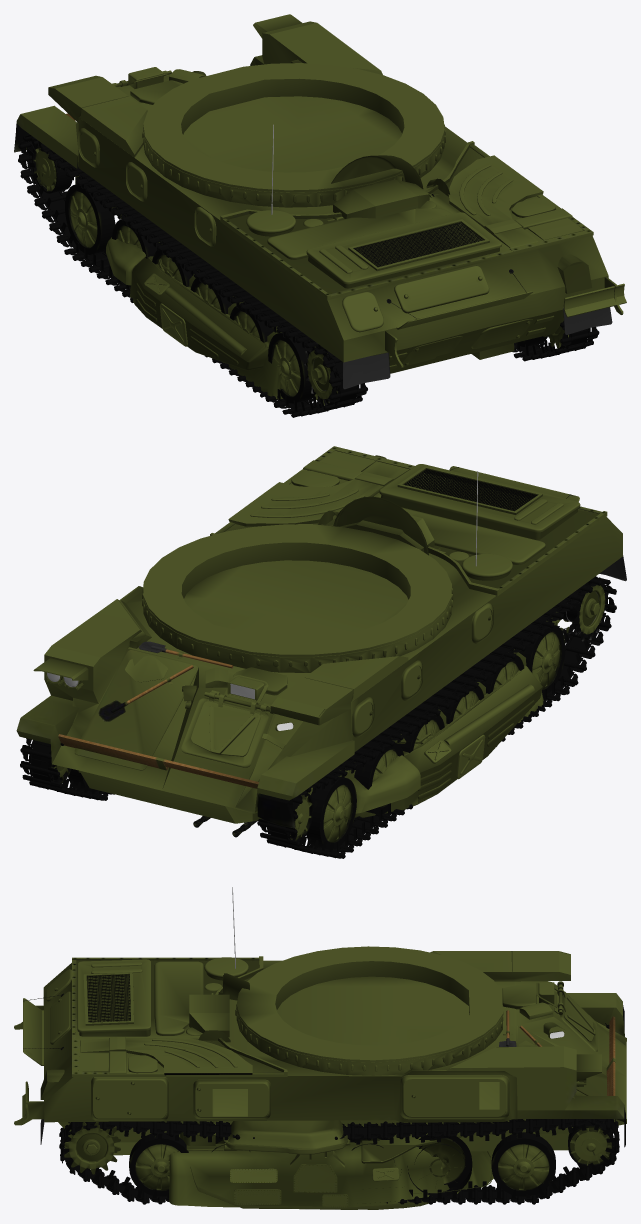
The model's file is zsu234.glb.
3 renders of one model, top to bottom at view 1: azimuth 30°, elevation 25°; view 2: azimuth 150°, elevation 25°; view 3: azimuth 270°, elevation 25°, orthographic. The views are drawn at different scales.
Visible parts, largest first — view 1: body|material_19, body|material_42, body|K.U.K, body|material, body|K.B.U.M, body|G.L.K.M, body|K.B.U, turret|L.P.O.B.K, body|K.U.V, radar|Material.009, body|material_6, body|K.B.K (+9 smaller); view 2: body|material_19, body|material_42, body|material_6, body|K.U.K, body|material, body|G.L.K.M, turret|L.P.O.B.K, body|K.B.U.M, body|K.U.V, turret|K.D.F, body|material_9, radar|Material.010 (+6 smaller); view 3: body|material_19, body|material_42, body|K.U.K, turret|bashnya, body|material_9, body|material, body|G.L.K.M, body|K.B.U.M, body|material_6, turret|material_46, turret|U.B.L.P, body|K.B.U (+9 smaller).
Boxes of the visible parts, box(x1,y1,x2,y2) form: body|material_19: box(14, 21, 608, 373); body|material_42: box(142, 63, 445, 207); body|K.U.K: box(246, 155, 583, 288); body|material: box(18, 134, 599, 417); body|K.B.U.M: box(220, 141, 593, 300); body|G.L.K.M: box(65, 183, 547, 403); body|K.B.U: box(342, 254, 592, 332); turret|L.P.O.B.K: box(130, 256, 269, 370); body|K.U.V: box(353, 222, 483, 267); radar|Material.009: box(333, 179, 429, 218); body|material_6: box(66, 14, 302, 120); body|K.B.K: box(343, 307, 612, 389); body|material_19: box(16, 517, 622, 828); body|material_42: box(142, 524, 453, 672); body|material_6: box(33, 641, 293, 788); body|K.U.K: box(228, 450, 580, 580); body|material: box(20, 577, 616, 858); body|G.L.K.M: box(68, 625, 565, 849); turret|L.P.O.B.K: box(354, 665, 542, 817); body|K.B.U.M: box(210, 446, 607, 596); body|K.U.V: box(404, 469, 537, 511); turret|K.D.F: box(344, 755, 420, 813); body|material_9: box(352, 603, 493, 737); radar|Material.010: box(333, 496, 428, 555); body|material_19: box(43, 951, 626, 1155); body|material_42: box(235, 946, 503, 1075); body|K.U.K: box(77, 957, 252, 1074); turret|bashnya: box(169, 1142, 493, 1207); body|material_9: box(91, 1075, 509, 1120); body|material: box(59, 1023, 619, 1204); body|G.L.K.M: box(129, 1132, 555, 1196); body|K.B.U.M: box(72, 956, 287, 1076); body|material_6: box(499, 981, 615, 1095); turret|material_46: box(230, 1164, 399, 1207); turret|U.B.L.P: box(227, 1120, 347, 1148); body|K.B.U: box(23, 969, 71, 1099).
Size of the model in its own units: 3.11 by 2.76 by 6.26.
Materials: 77 (65 with a texture image).
